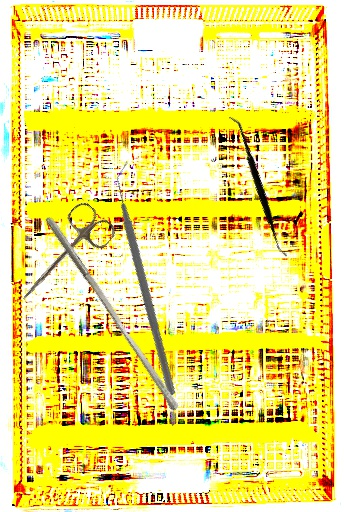Chopper: (31, 160, 268, 397)
Iris Scissors: (7, 198, 119, 317)
Pusher: (36, 214, 187, 413)
Spatula Surgical: (182, 115, 334, 259)
